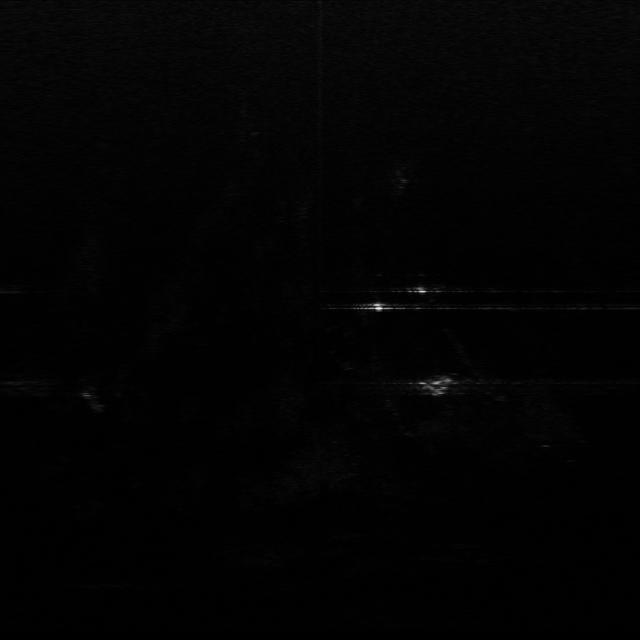rov: (416, 374, 460, 400)
